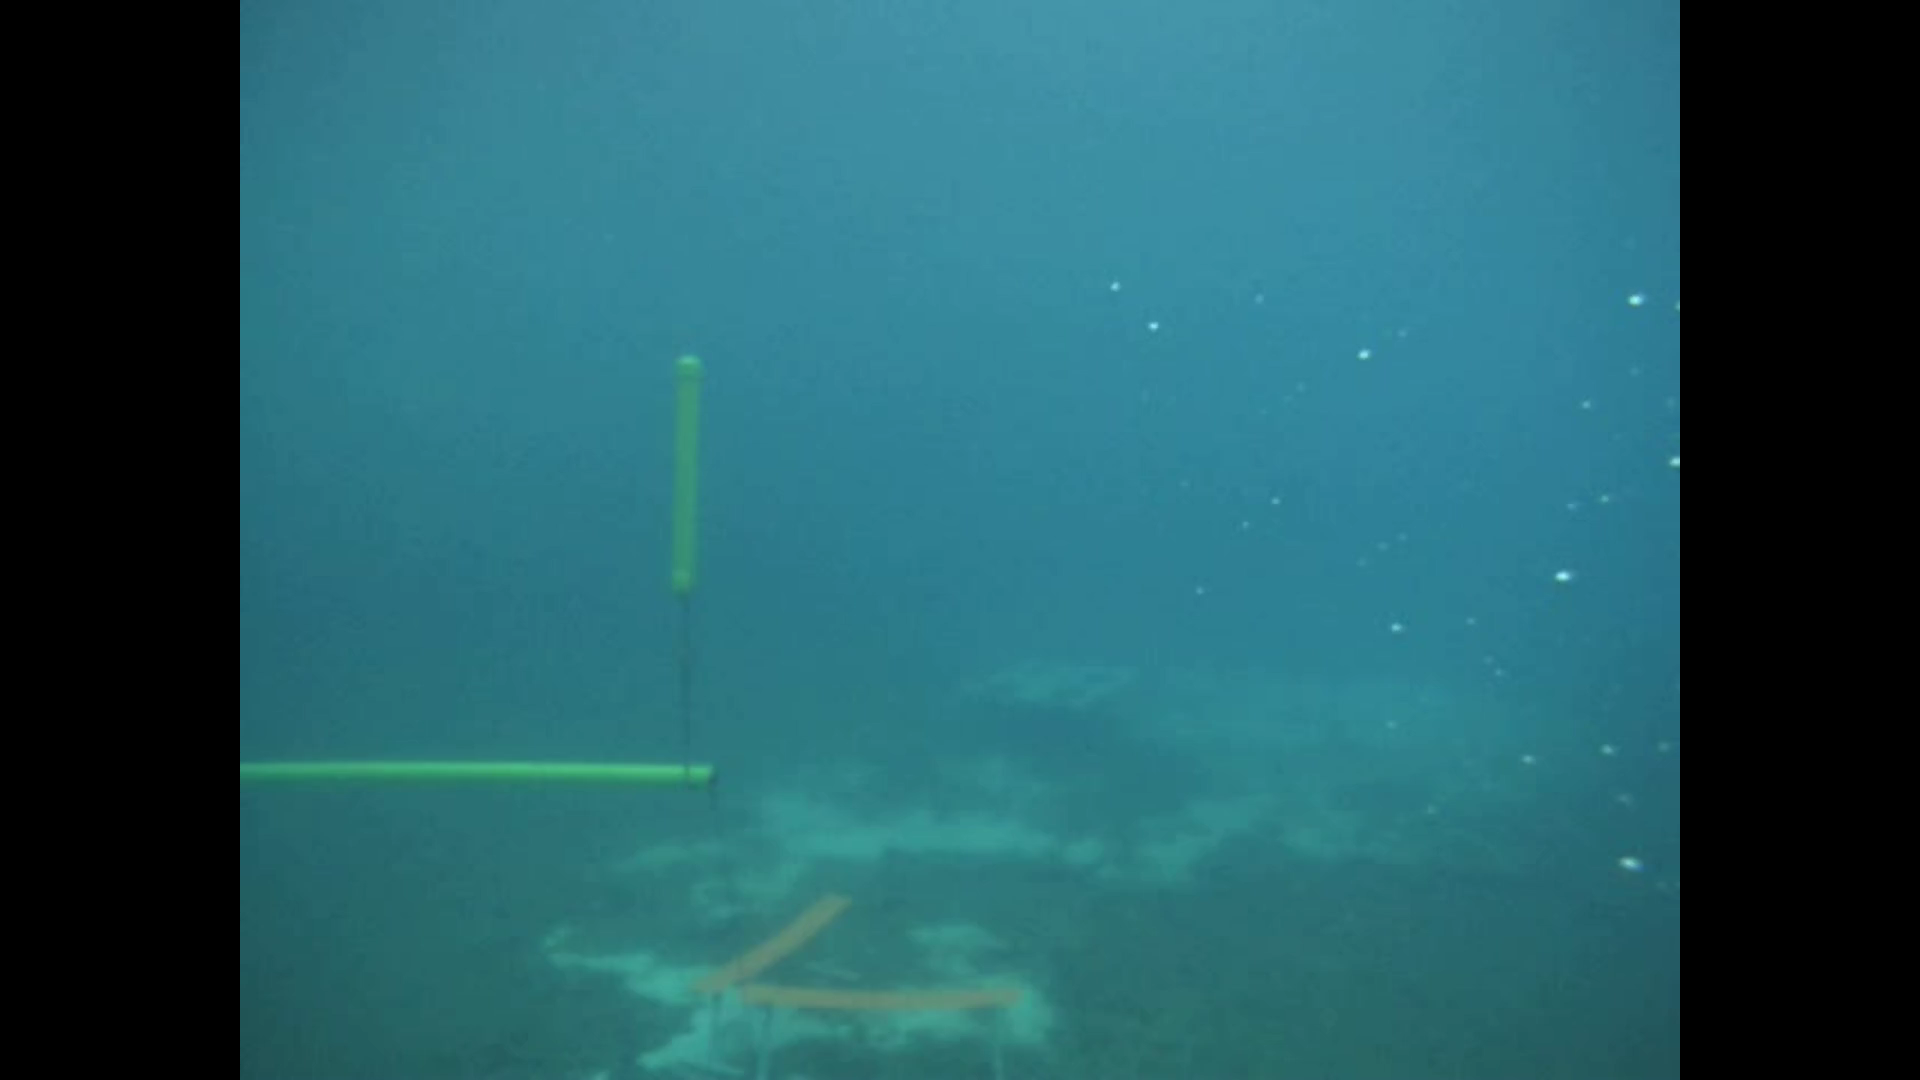gate: (237, 345, 716, 789)
